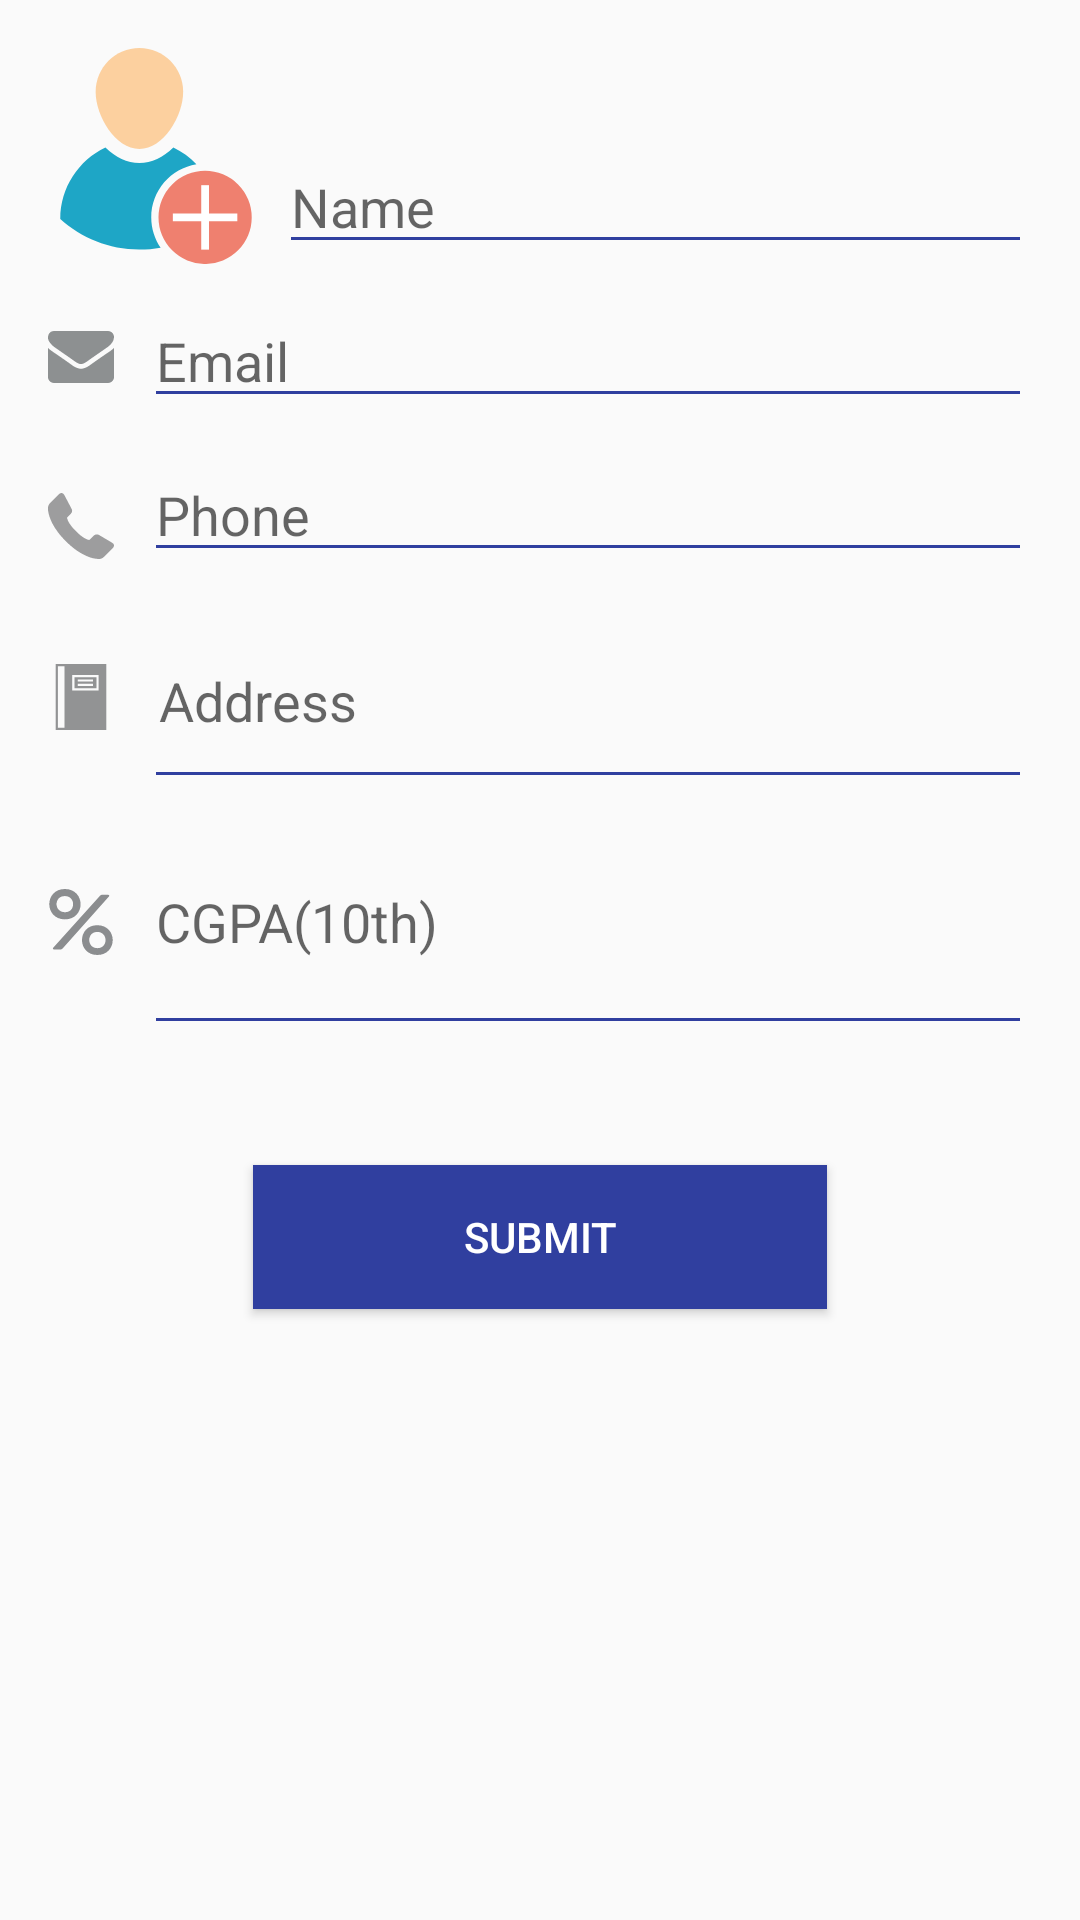

Named icons in this screenshot (1080x1920) and their bounding boxes, [x1,y1,x2,y2]:
add user: [60,48,252,264]
envelope: [48,331,114,383]
notebook: [55,664,107,730]
percentage discount: [49,889,113,955]
